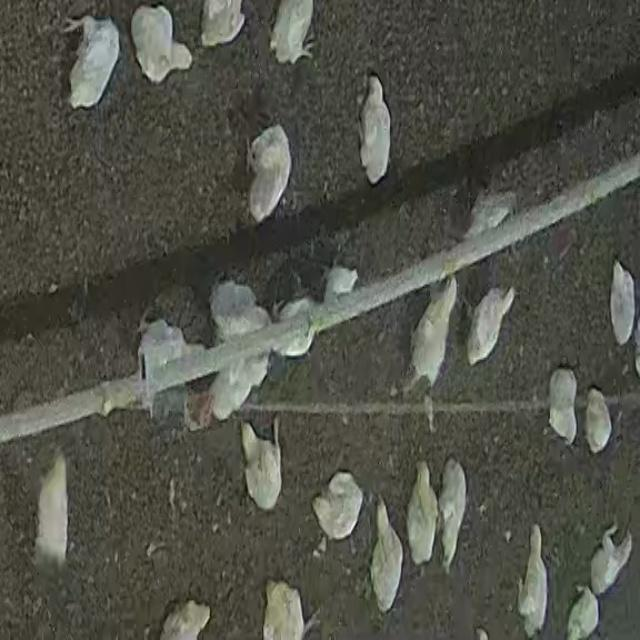chicken: (404, 278, 458, 402), (67, 13, 122, 113), (133, 2, 194, 78), (245, 122, 289, 225), (34, 450, 70, 572), (239, 419, 282, 511), (466, 286, 516, 365), (372, 498, 406, 612), (312, 470, 364, 541), (519, 524, 551, 638), (134, 311, 202, 364), (406, 461, 439, 567), (361, 77, 393, 186), (437, 458, 467, 573), (208, 283, 272, 335), (590, 523, 632, 595), (272, 298, 318, 358), (276, 0, 319, 64), (608, 260, 636, 347), (548, 368, 579, 446), (462, 193, 512, 240), (199, 1, 246, 48), (584, 385, 612, 454), (565, 586, 599, 640)
